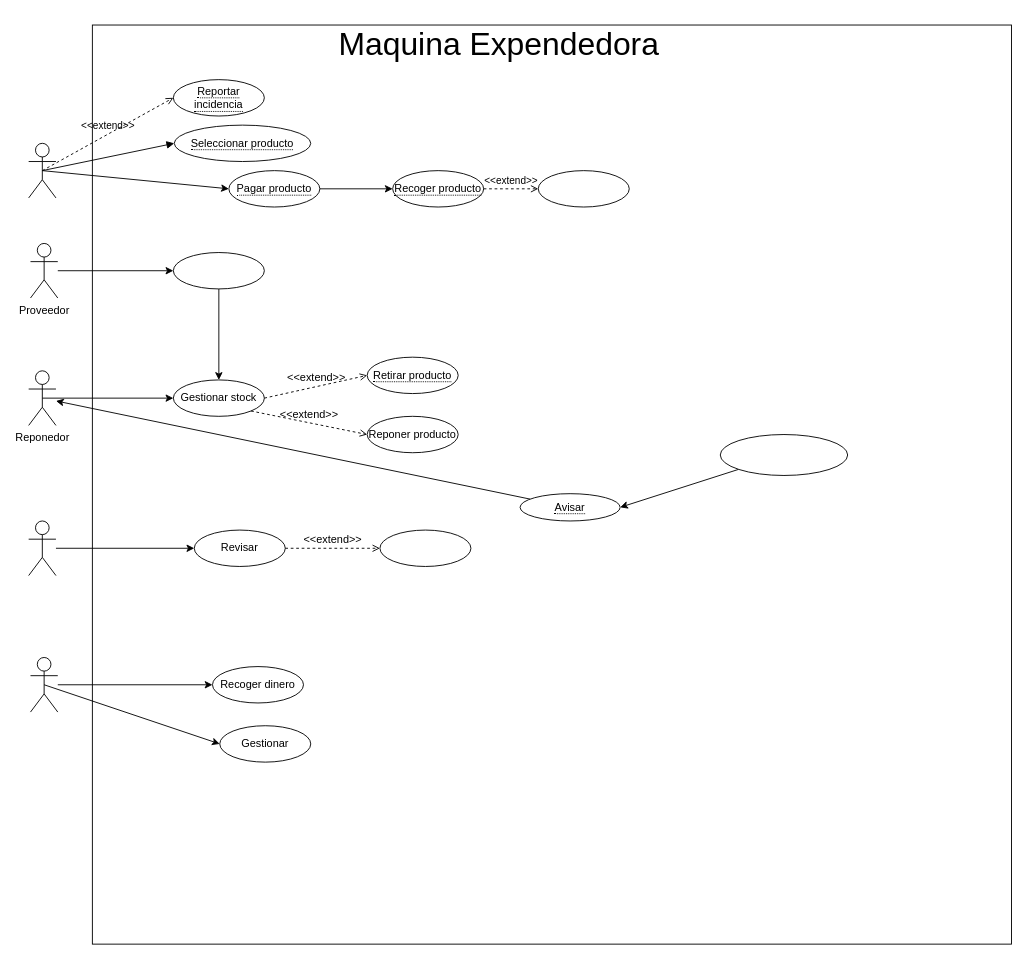
Image size: 1027x960. Some labels were removed from this diagram. Each missing label, with the box of its shape:
Cliente: (28, 142, 56, 198)
Gestor de Stock: (719, 434, 848, 475)
Propietario: (30, 657, 58, 712)
Proporciona productos: (172, 252, 264, 289)
Recoger cambio: (537, 170, 629, 207)
Reparar: (379, 529, 471, 566)
Soporte: (28, 520, 56, 576)
